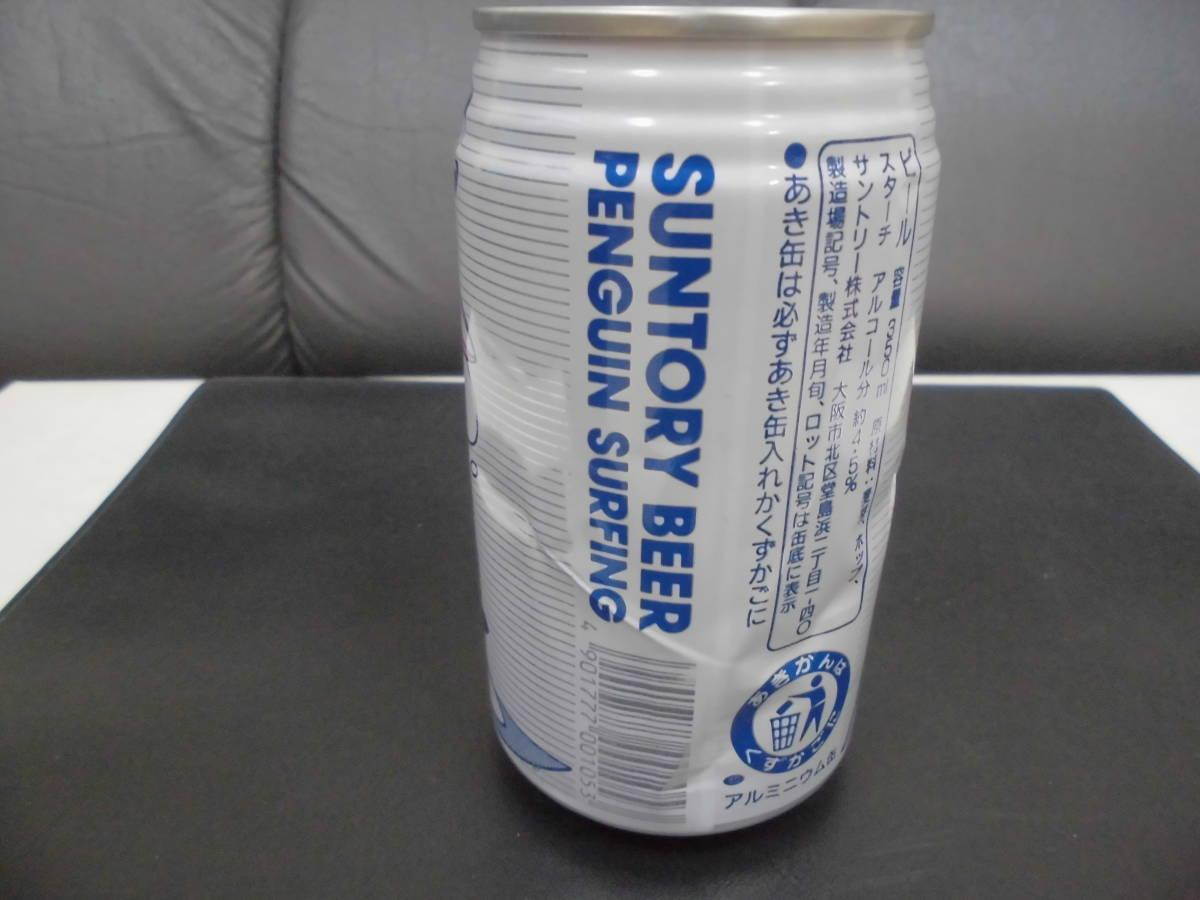metal: (442, 2, 958, 842)
